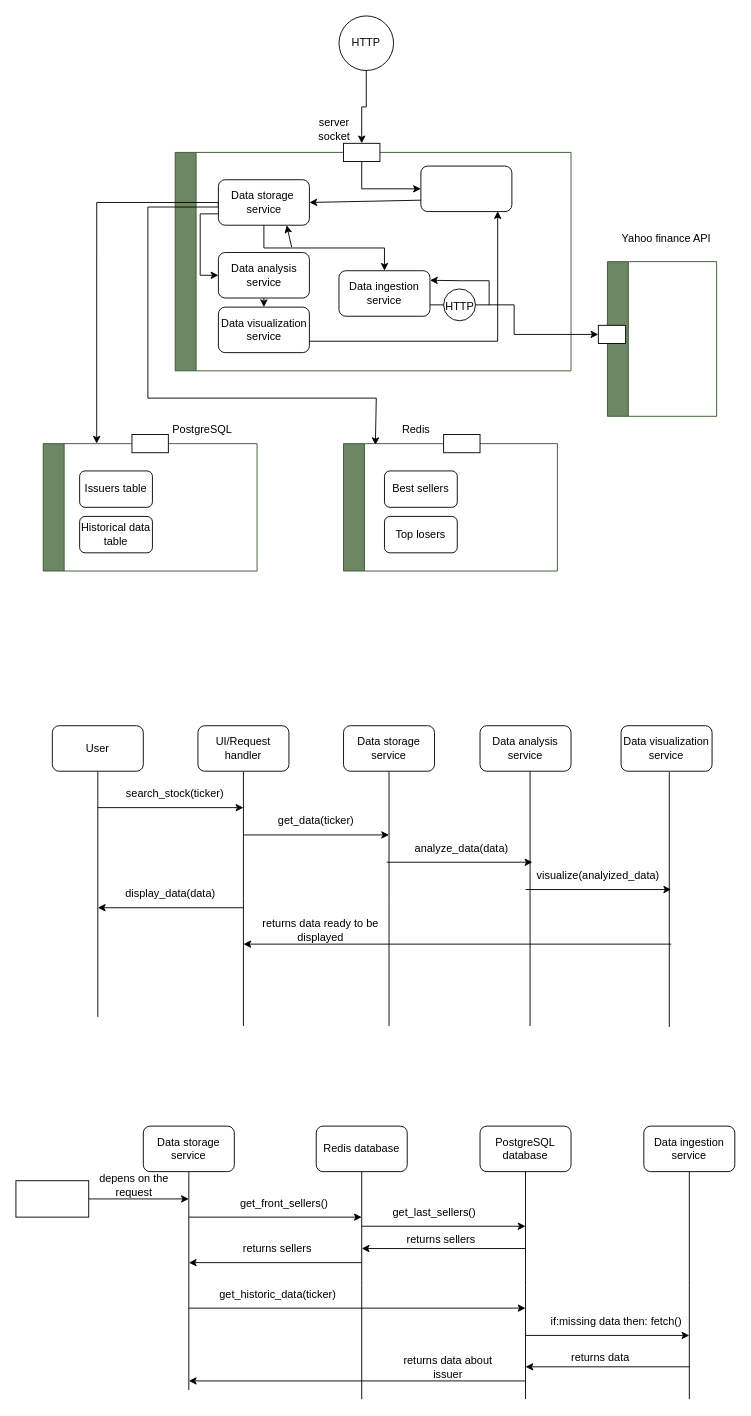
Some shapes in this 751 by 1416 pixel diagram are drawn without their labels. Here are the shapes that lost their labels. From the top down, the centre of each, then its label:
At (x=466, y=188): "User interface".
At (x=52, y=1198): "HTTP request".
